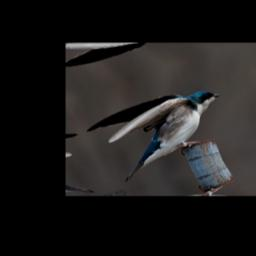Swallow: (80, 77, 247, 187)
